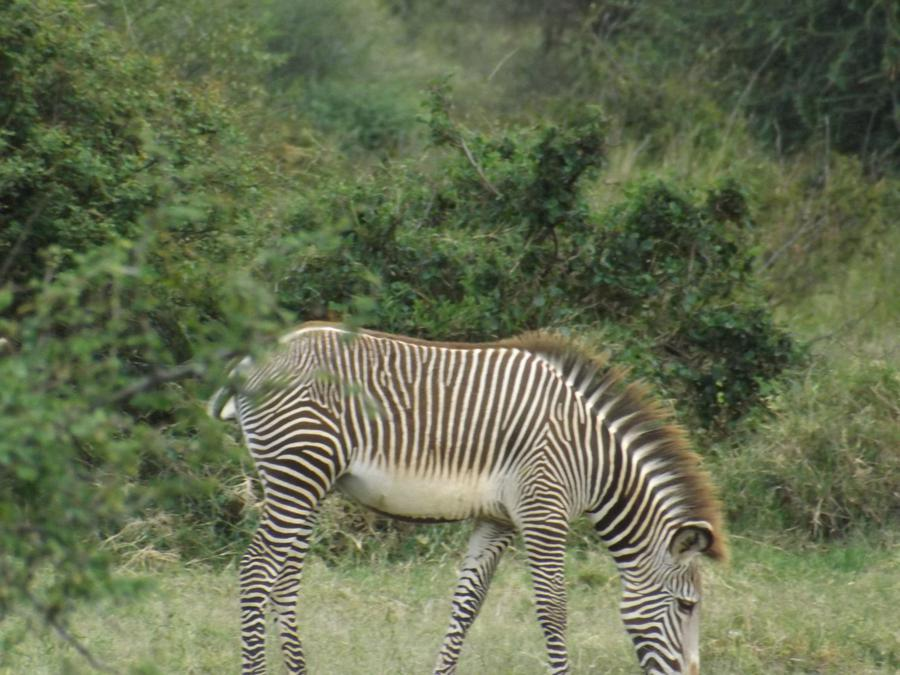zebra_grevys: (211, 294, 575, 533)
